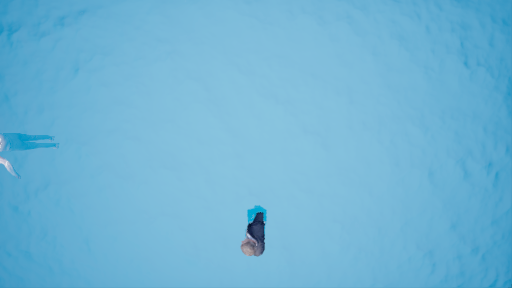person: (240, 206, 274, 259)
